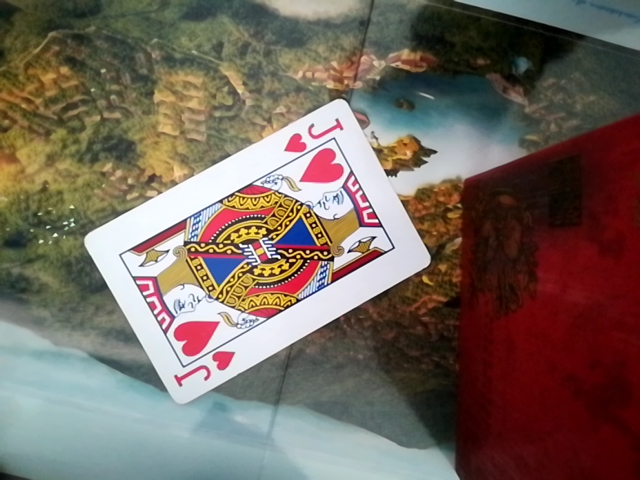hx j: (73, 104, 443, 396)
